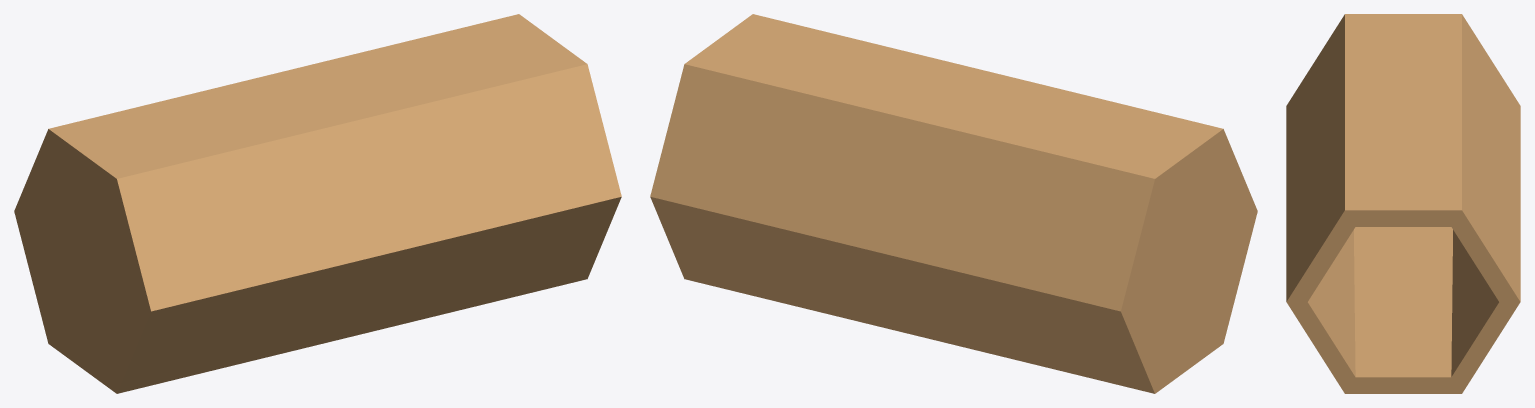
The model's file is Bullet_01_2.fbx.
3 views of the same model, side by side, from view 1: azimuth 30°, elevation 25°; view 2: azimuth 150°, elevation 25°; view 3: azimuth 270°, elevation 25° (orthographic). The views are drawn at different scales.
Visible parts, largest first — view 1: Bullet_01_2; view 2: Bullet_01_2; view 3: Bullet_01_2.
Boxes of the visible parts, x1,y1,x2,y2 form: Bullet_01_2: (14, 14, 621, 393); Bullet_01_2: (650, 14, 1257, 393); Bullet_01_2: (1286, 14, 1520, 393).
Size of the model in its own units: 0.0219 by 0.00955 by 0.011.
